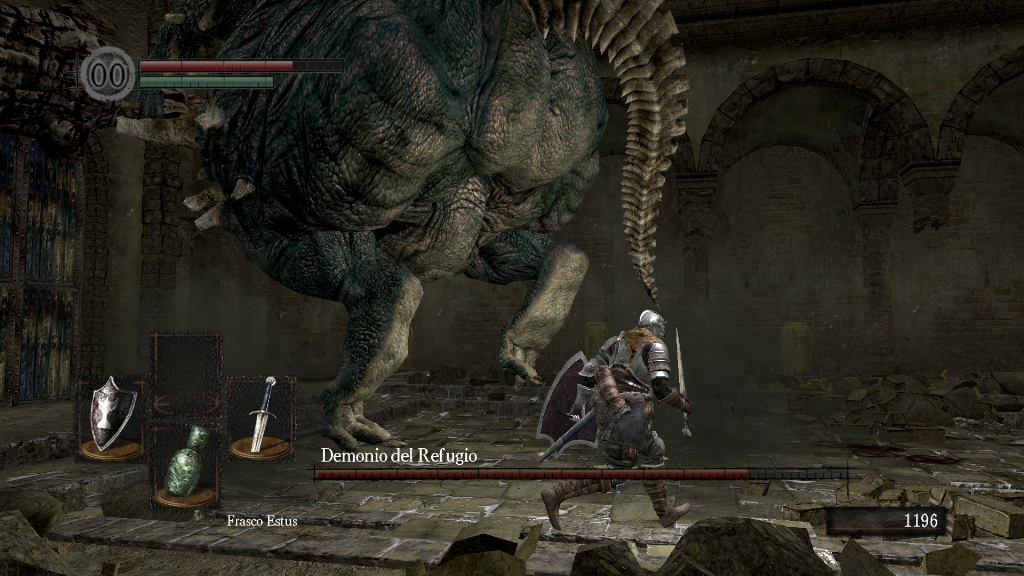asylumDemon: (1, 1, 692, 457)
bossHP: (314, 469, 847, 479)
health: (138, 58, 343, 71)
humanity: (80, 45, 136, 102)
player: (535, 309, 693, 531)
souls: (825, 506, 945, 536)
stamina: (138, 74, 274, 88)
